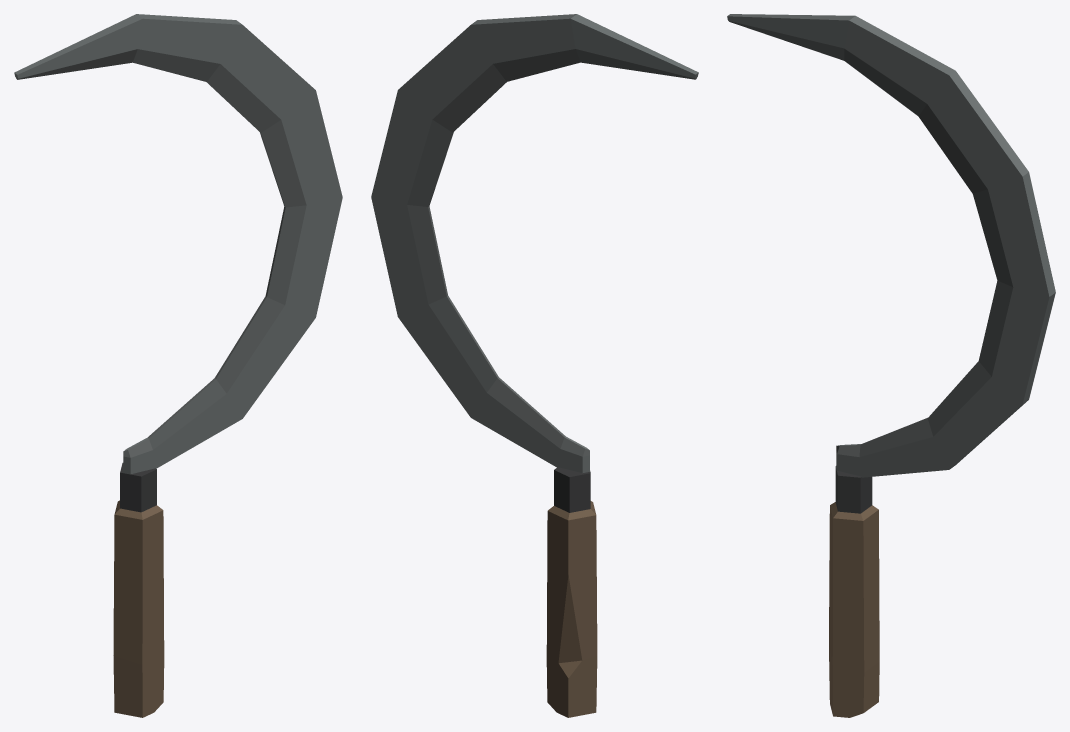
File: SM_Props_Farm_Tool_Sickle.fbx
3 renders of one model, left to right at view 1: azimuth 30°, elevation 25°; view 2: azimuth 150°, elevation 25°; view 3: azimuth 330°, elevation 25°, orthographic.
Parts seen in each view (by area): view 1: SM_Props_Farm_Tool_Sickle; view 2: SM_Props_Farm_Tool_Sickle; view 3: SM_Props_Farm_Tool_Sickle.
Part boxes in pixels (box(x1,y1,x2,y2)): SM_Props_Farm_Tool_Sickle: box(14, 14, 342, 717); SM_Props_Farm_Tool_Sickle: box(371, 14, 698, 717); SM_Props_Farm_Tool_Sickle: box(727, 14, 1055, 717).
Bounding box in the file's own units: 30.53 × 62.3 × 4.09.
